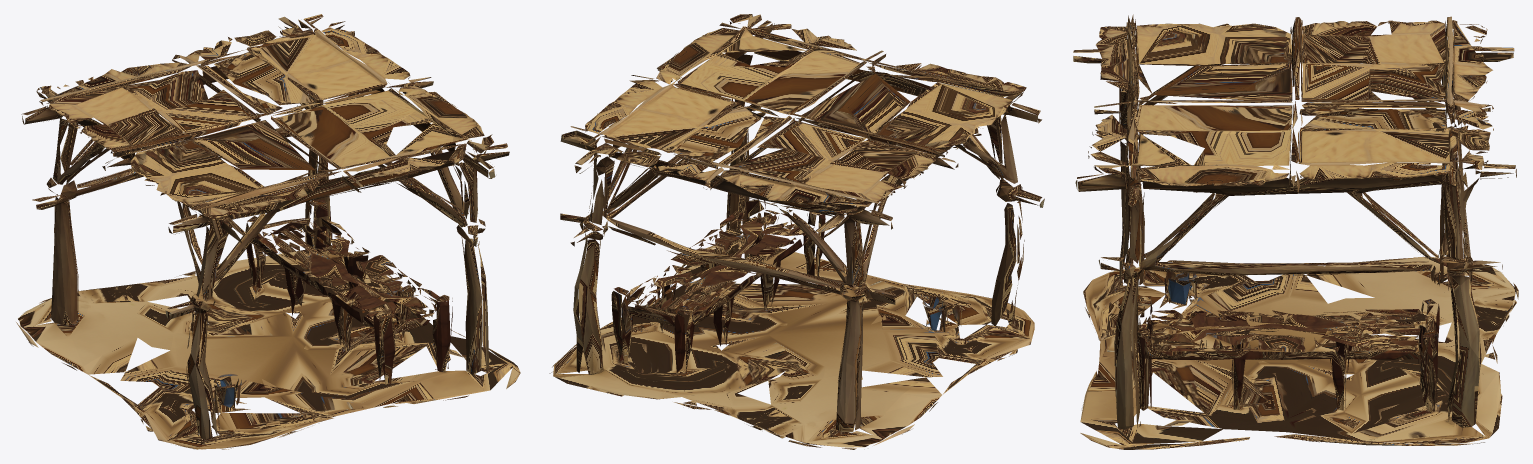
Rendered from rakouba.glb.
3 views of the same model, side by side, from view 1: azimuth 30°, elevation 25°; view 2: azimuth 150°, elevation 25°; view 3: azimuth 270°, elevation 25° (orthographic). The views are drawn at different scales.
Visible parts, largest first — view 1: world; view 2: world; view 3: world.
Part boxes in pixels (<box>): world: <box>16,14,520,449</box>; world: <box>549,14,1044,449</box>; world: <box>1073,14,1518,449</box>.
Size of the model in its own units: 0.978 by 0.648 by 0.9884.
1 material, 1 textured.
